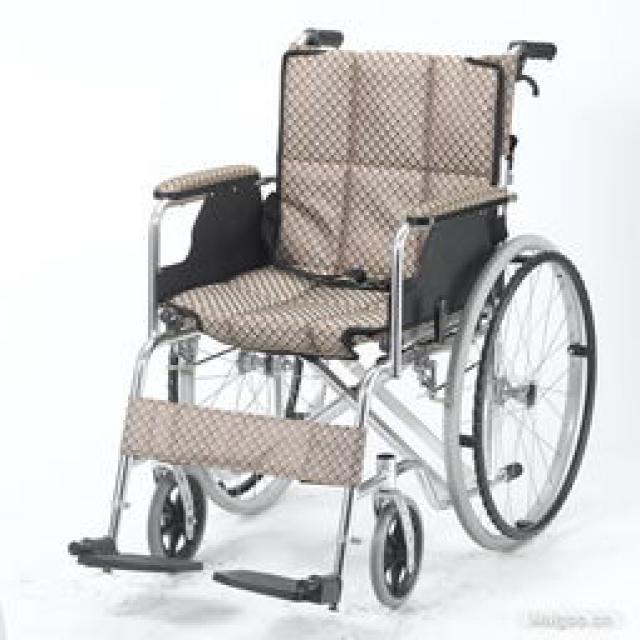wheelchair: (60, 15, 612, 633)
